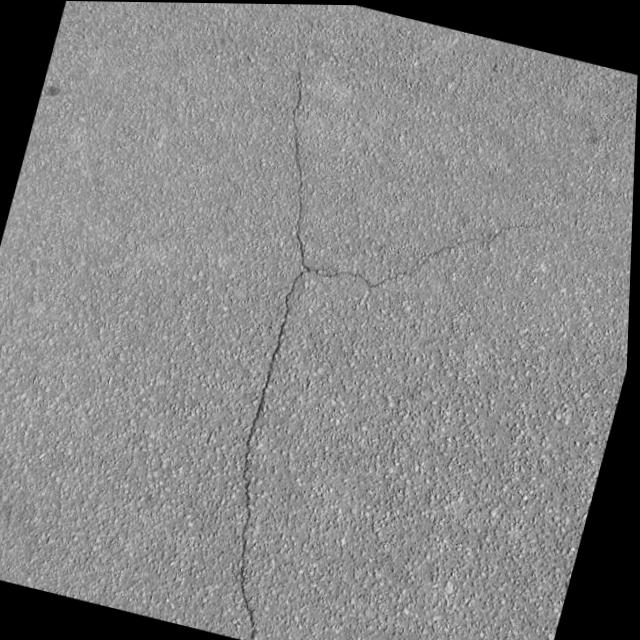Crack: (144, 53, 557, 640)
